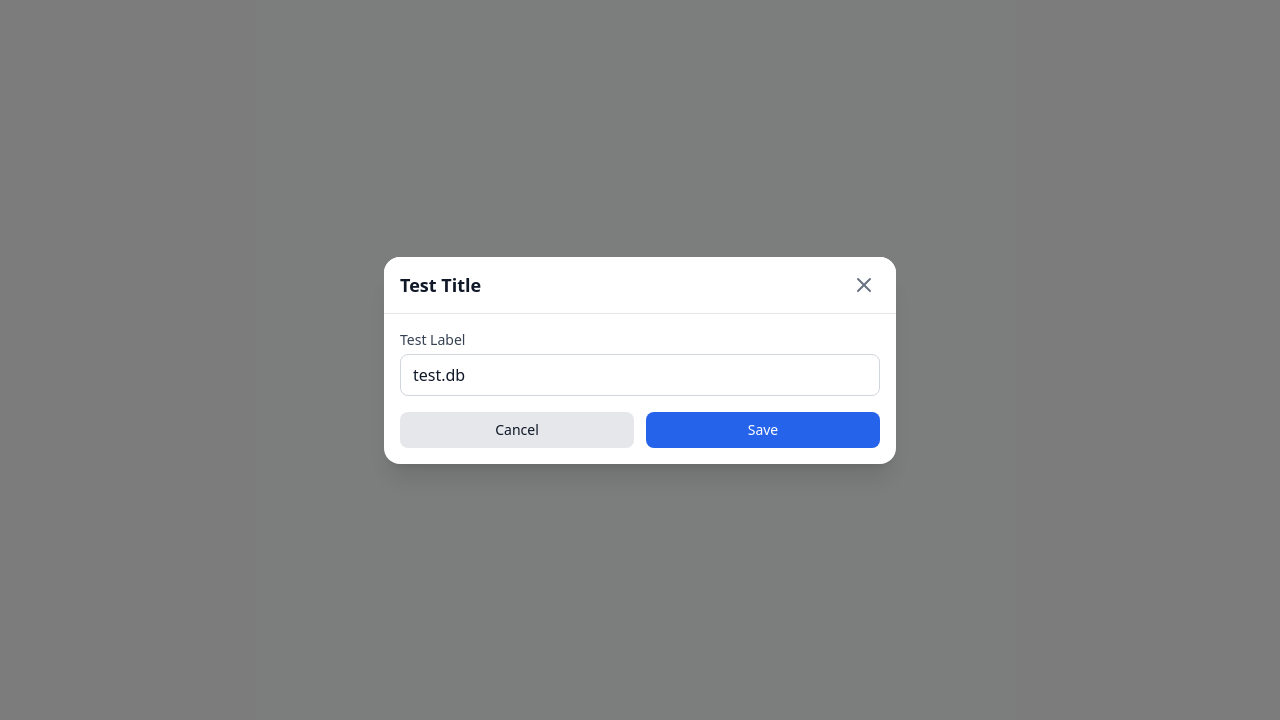
Test: TextInputModal › shows Processing... text when loading
The image size is (1280, 720).
Click the button "Save" at (763, 430), box [646, 412, 880, 448]
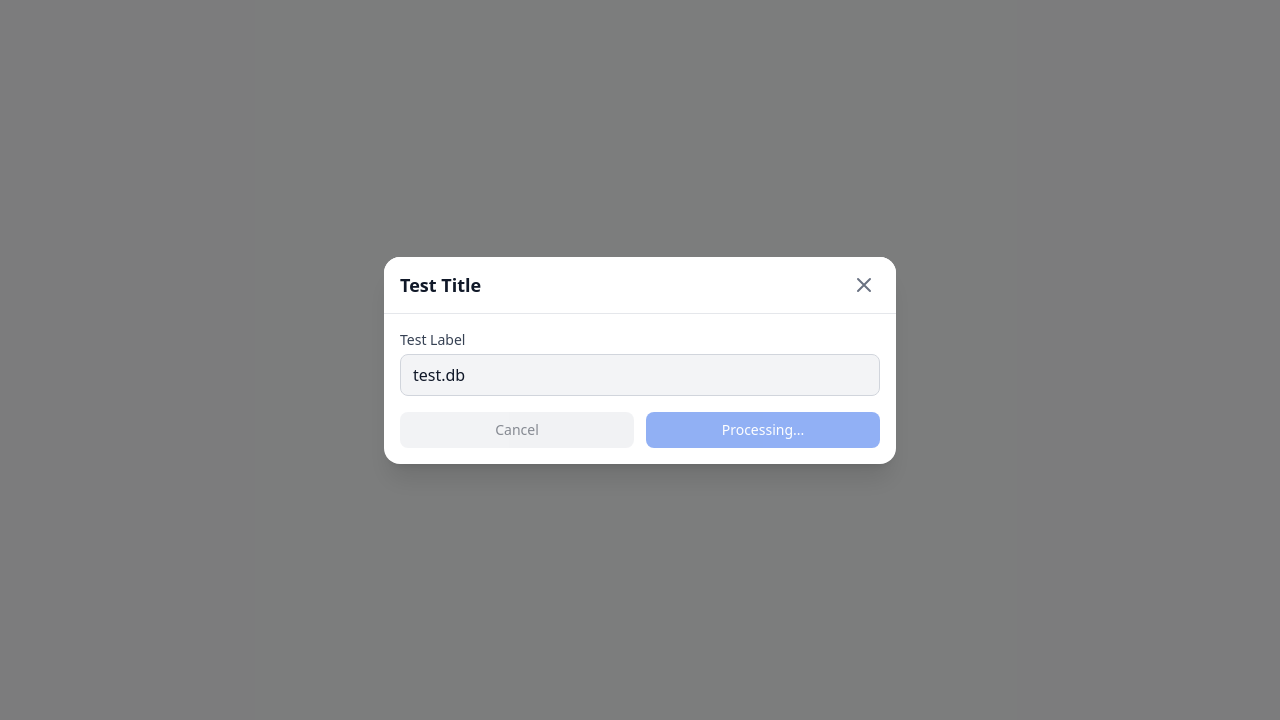
Result: the button "Processing..." is shown at [646, 412, 880, 448]
